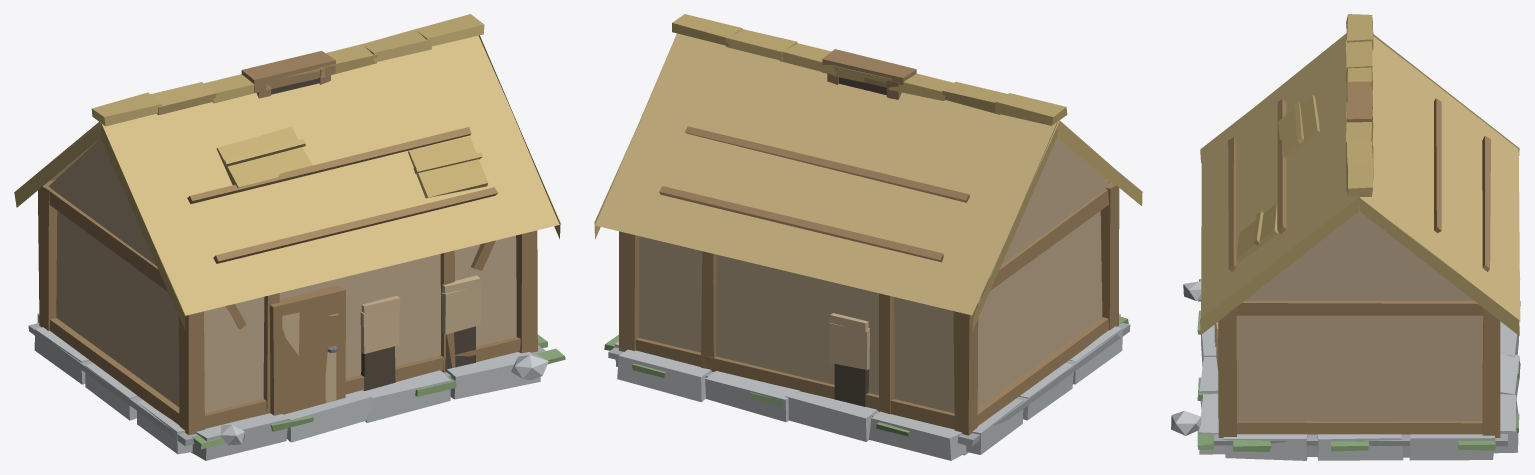
The model's file is townhall_c.glb.
3 renders of one model, left to right at view 1: azimuth 30°, elevation 25°; view 2: azimuth 150°, elevation 25°; view 3: azimuth 270°, elevation 25°, orthographic. The views are drawn at different scales.
Visible parts, largest first — view 1: roof, walls, frame, plinth, door_arch, ridge, roof_patch, roof_battens, gable, win_shut, roof_end, belfry_frame (+5 smaller); view 2: roof, walls, frame, plinth, ridge, roof_battens, gable, roof_end, win_shut.001, belfry_frame, plinth_top, win_hole.001 (+1 smaller); view 3: roof, walls, frame, gable, plinth, roof_end, roof_battens, ridge, roof_patch, plinth_moss, belfry_frame, stones (+1 smaller).
Boxes of the visible parts, <box> form: roof: <box>49,35,561,315</box>; walls: <box>56,211,516,413</box>; frame: <box>38,180,537,434</box>; plinth: <box>34,313,540,460</box>; door_arch: <box>269,285,345,415</box>; ridge: <box>91,14,484,126</box>; roof_patch: <box>216,127,487,198</box>; roof_battens: <box>187,127,497,263</box>; gable: <box>48,138,156,265</box>; win_shut: <box>360,275,480,353</box>; roof_end: <box>14,35,560,329</box>; belfry_frame: <box>241,51,335,98</box>; roof: <box>595,33,1130,315</box>; walls: <box>639,211,1102,413</box>; frame: <box>619,178,1119,435</box>; plinth: <box>614,313,1122,460</box>; ridge: <box>672,14,1067,125</box>; roof_battens: <box>659,126,969,262</box>; gable: <box>992,138,1109,271</box>; roof_end: <box>594,77,1142,330</box>; win_shut.001: <box>829,313,869,369</box>; belfry_frame: <box>822,49,916,99</box>; plinth_top: <box>608,322,1130,446</box>; win_hole.001: <box>834,364,868,406</box>; roof: <box>1201,33,1520,321</box>; walls: <box>1236,315,1483,434</box>; frame: <box>1218,300,1500,437</box>; gable: <box>1245,196,1473,300</box>; plinth: <box>1199,279,1519,460</box>; roof_end: <box>1200,34,1519,335</box>; roof_battens: <box>1228,98,1490,271</box>; ridge: <box>1345,14,1373,196</box>; roof_patch: <box>1236,95,1319,262</box>; plinth_moss: <box>1197,279,1520,451</box>; belfry_frame: <box>1346,81,1372,122</box>; stones: <box>1171,281,1201,435</box>.
Bounding box in the file's own units: 4.25 × 3.2 × 3.58.
